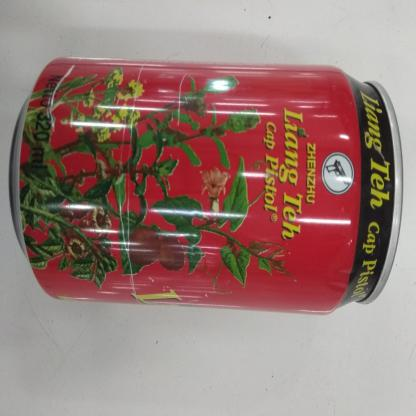can: (7, 49, 411, 320)
